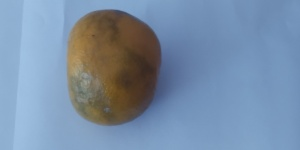BAD: (68, 7, 165, 128)
